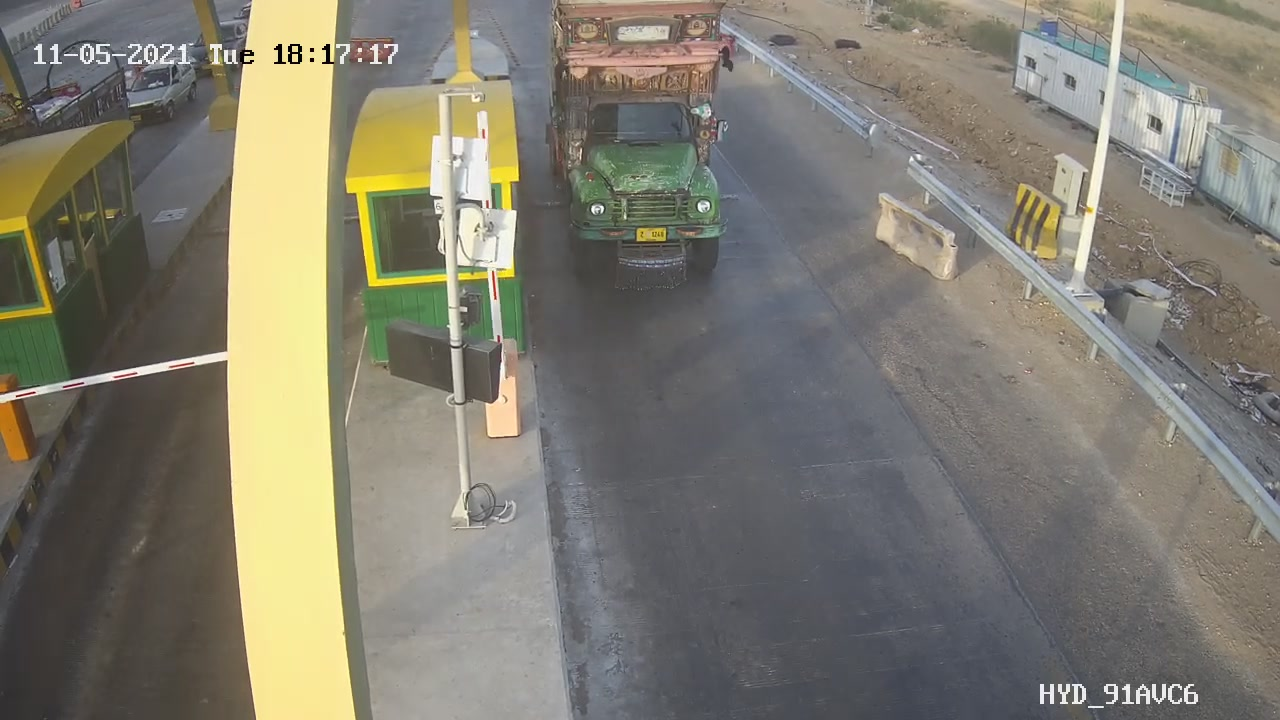F5: (549, 1, 735, 287)
